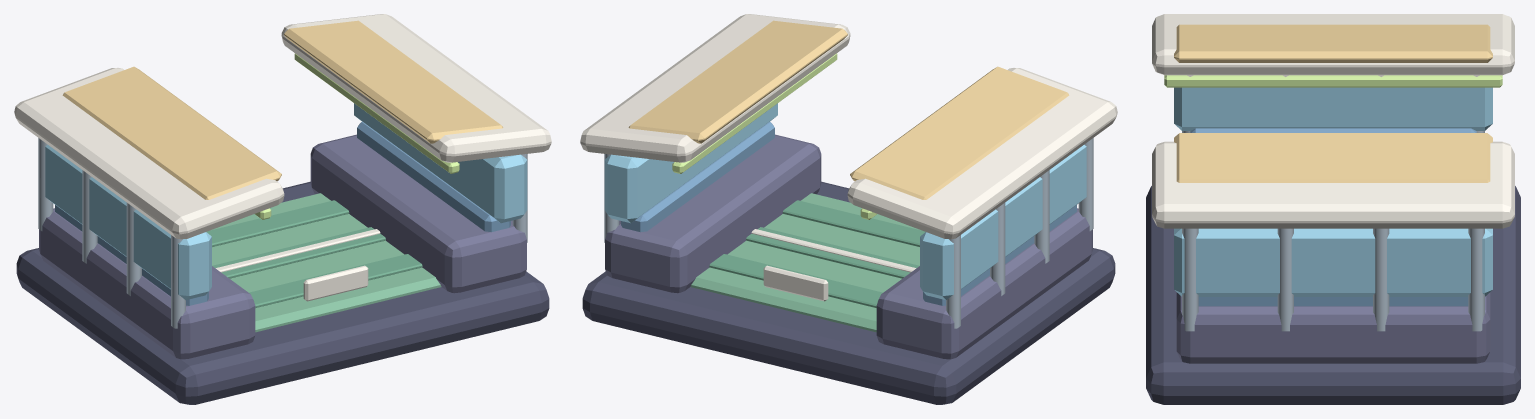
File: arena.fbx
3 renders of one model, left to right at view 1: azimuth 30°, elevation 25°; view 2: azimuth 150°, elevation 25°; view 3: azimuth 270°, elevation 25°, orthographic. The views are drawn at different scales.
Parts seen in each view (by area): view 1: arena; view 2: arena; view 3: arena.
Part boxes in pixels (x1=…): arena: x1=14, y1=14, x2=551, y2=404; arena: x1=580, y1=14, x2=1117, y2=404; arena: x1=1146, y1=14, x2=1520, y2=404.
Size of the model in its own units: 3.45 by 1.79 by 2.75.
